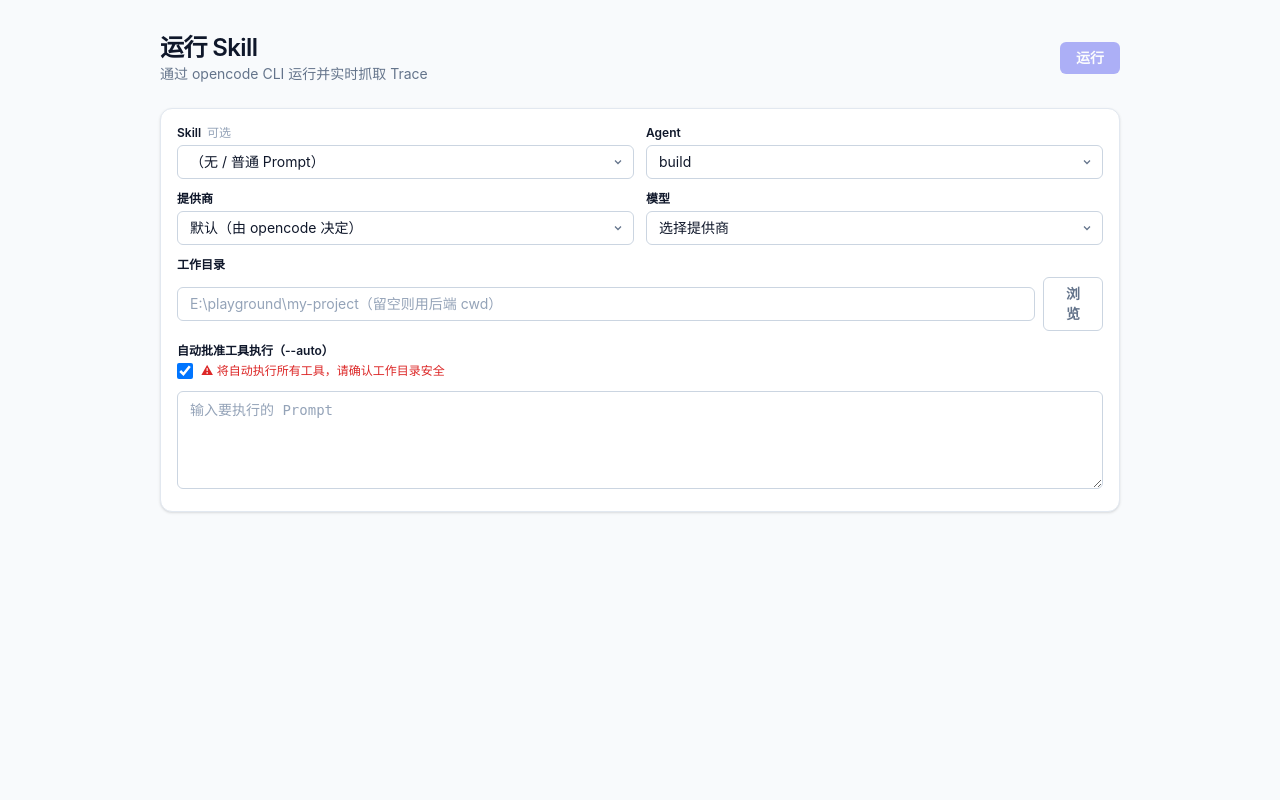
Test: RunPage › opens the browse modal and fills cwd on select
This screenshot has width=1280, height=800.
Click the button "浏览" at {"x": 1073, "y": 304}, box top-left (1043, 277), bottom-right (1103, 331)
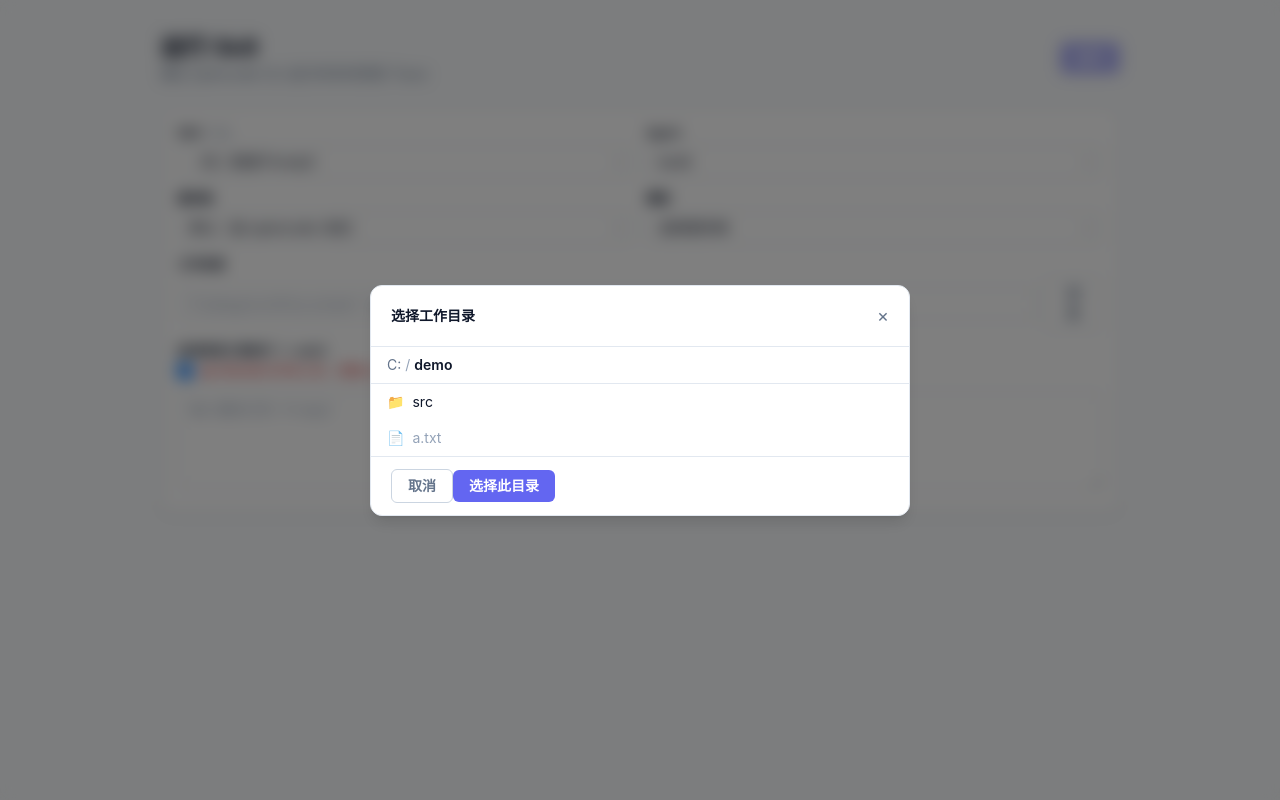
Check: the text "src" is shown
Check: the text "a.txt" is shown, box top-left (412, 428), bottom-right (442, 448)
Click the text "src" at {"x": 423, "y": 402}, box top-left (412, 392), bottom-right (433, 412)
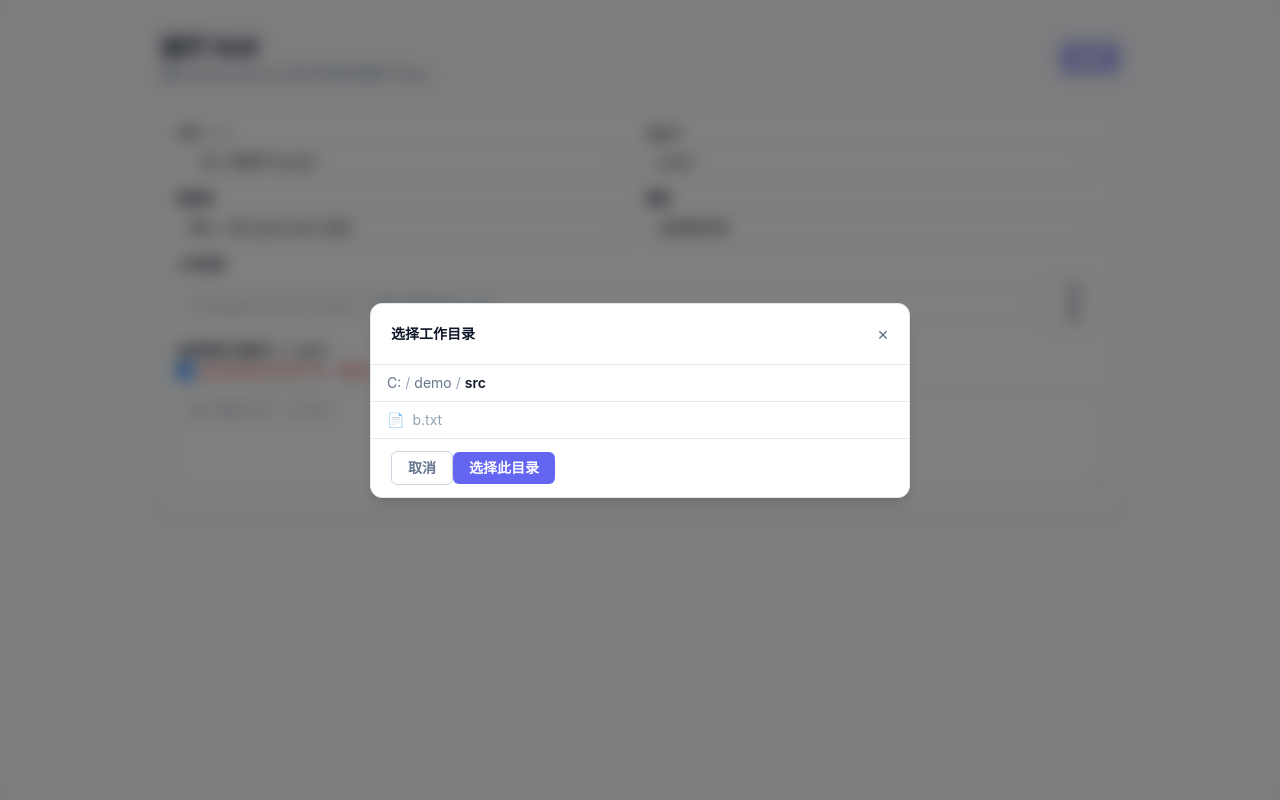
Check: the text "b.txt" is shown, box top-left (412, 410), bottom-right (442, 430)
Click the button "选择此目录" at {"x": 504, "y": 468}, box top-left (453, 452), bottom-right (555, 484)
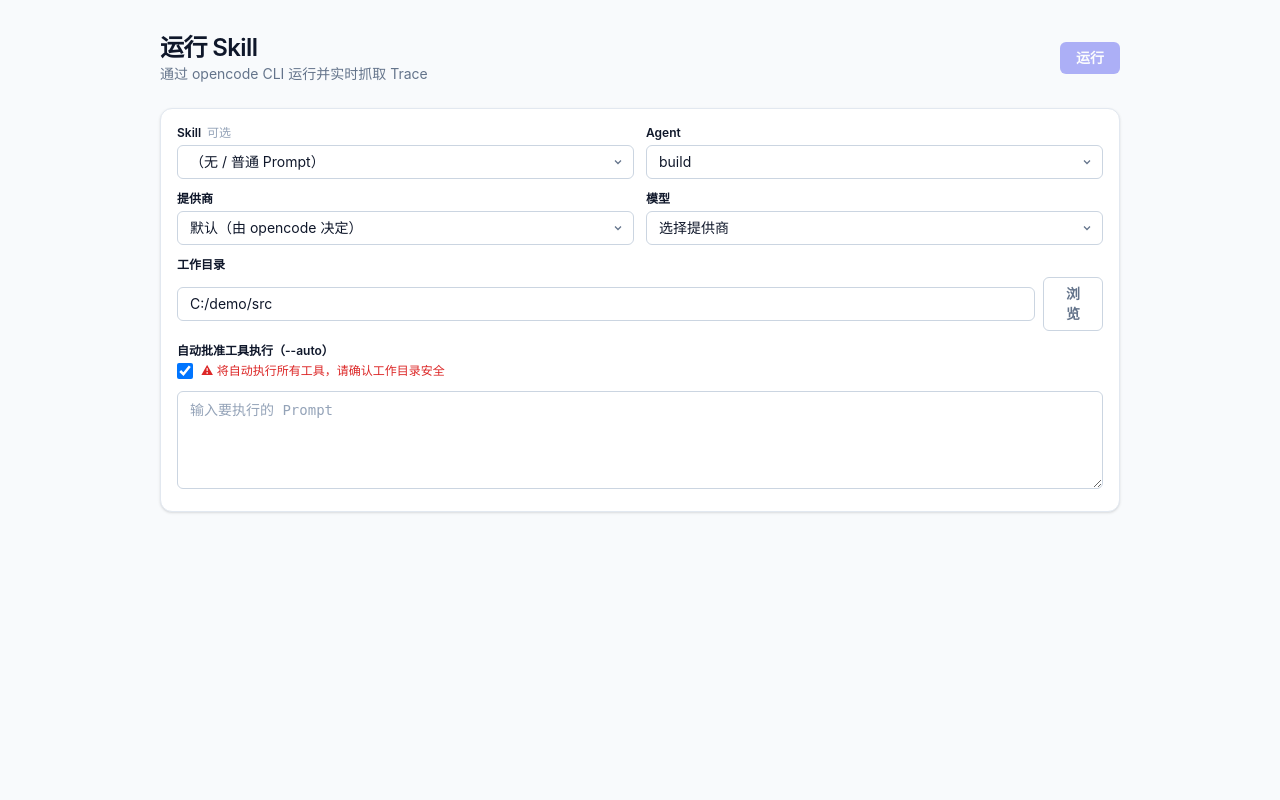
Check: the field labelled "工作目录" holds "C:/demo/src", box top-left (177, 287), bottom-right (1035, 321)
